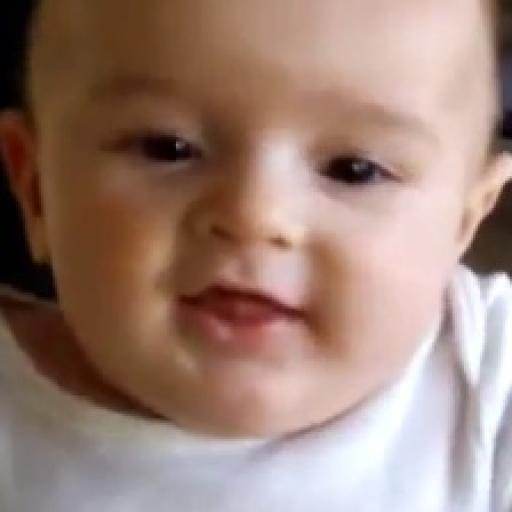Autism: (54, 18, 512, 512)
